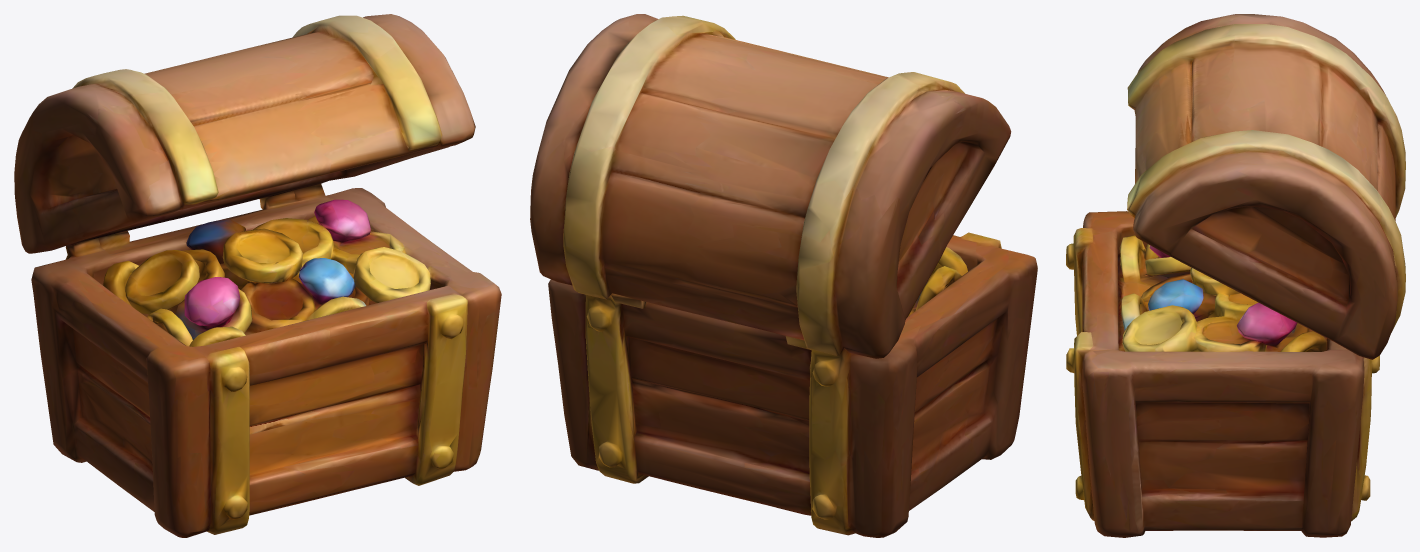
The model's file is chest-open.glb.
The picture shows the model from 3 angles, left to right: view 1: azimuth 30°, elevation 25°; view 2: azimuth 150°, elevation 25°; view 3: azimuth 270°, elevation 25°; orthographic projection. The views are drawn at different scales.
Visible parts, largest first — view 1: tripo_node_65e8f828-01e8-4d10-974c-4f2cd06f3064; view 2: tripo_node_65e8f828-01e8-4d10-974c-4f2cd06f3064; view 3: tripo_node_65e8f828-01e8-4d10-974c-4f2cd06f3064.
Part boxes in pixels (x1=…): tripo_node_65e8f828-01e8-4d10-974c-4f2cd06f3064: x1=14, y1=14, x2=501, y2=537; tripo_node_65e8f828-01e8-4d10-974c-4f2cd06f3064: x1=530, y1=14, x2=1037, y2=537; tripo_node_65e8f828-01e8-4d10-974c-4f2cd06f3064: x1=1066, y1=14, x2=1405, y2=537.
Size of the model in its own units: 0.8882 by 0.9995 by 0.7911.
Materials: 1 (1 with a texture image).
